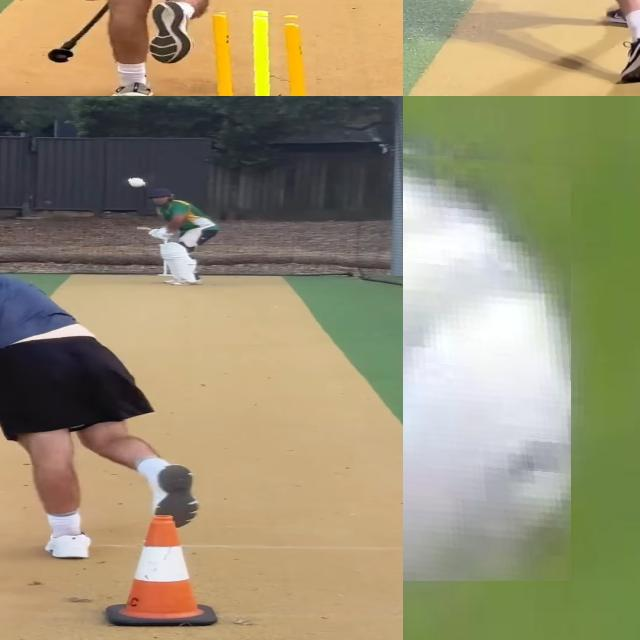Cricket ball: (403, 132, 571, 581), (124, 174, 148, 188)
Stumps: (98, 489, 230, 629), (190, 9, 315, 96)
